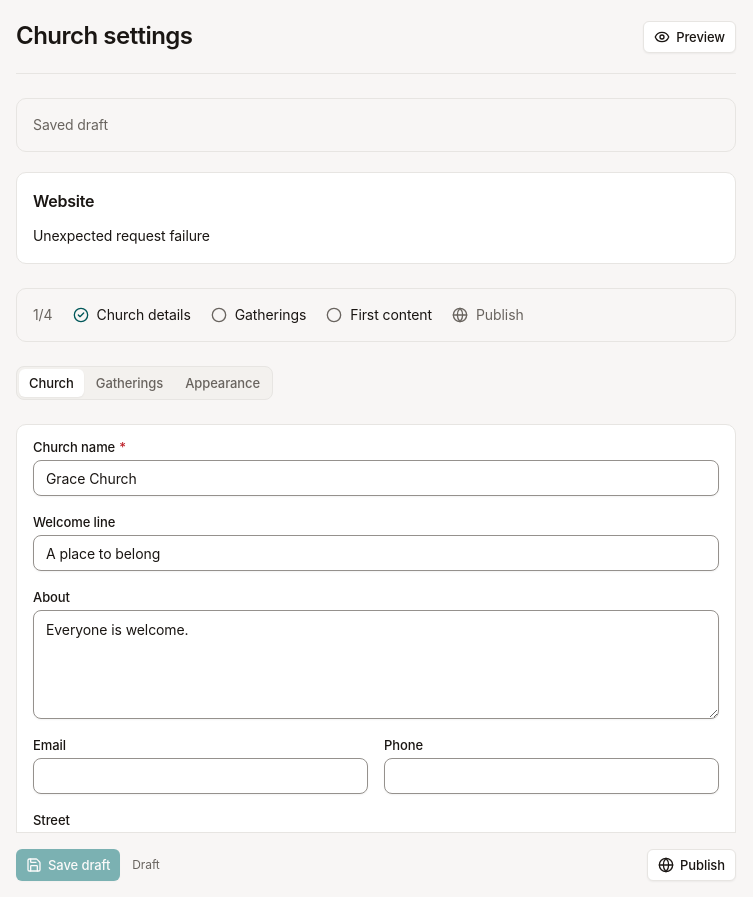
keeps unsaved edits separate from saved preview and publishes the saved version
The width and height of the screenshot is (753, 897).
Click the tab "Appearance" at (223, 383), box [175,369,270,397]
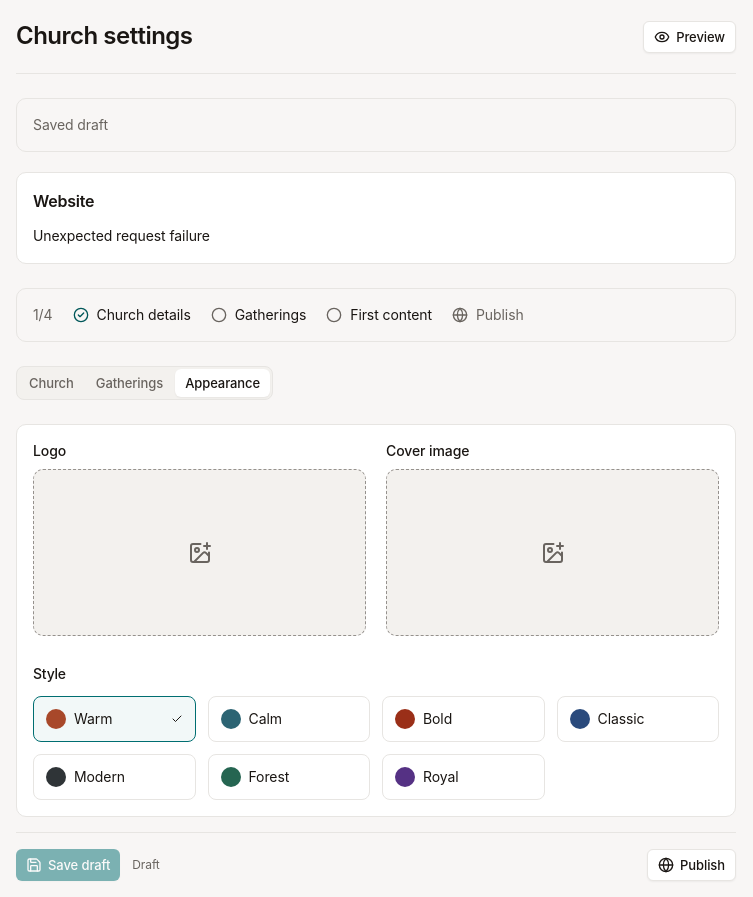
Expected: the button "calm" is shown
Click the button "calm" at (289, 719), box [208,696,370,742]
(page scrolled)
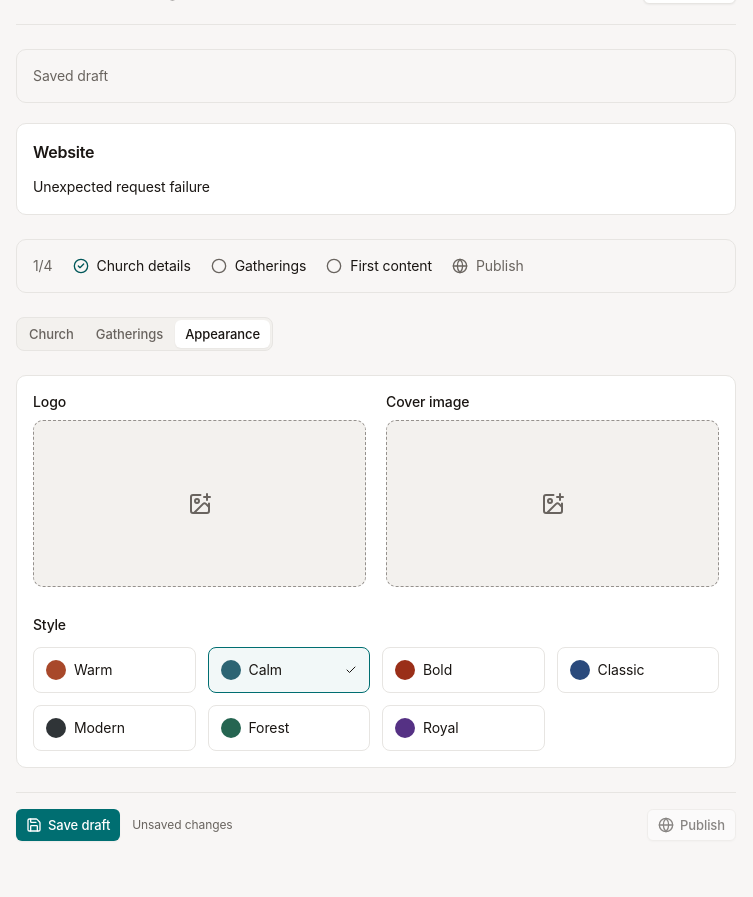
Expected: the button "Publish" is disabled, [647,809,736,841]
Submit the form, box [16,375,736,857]
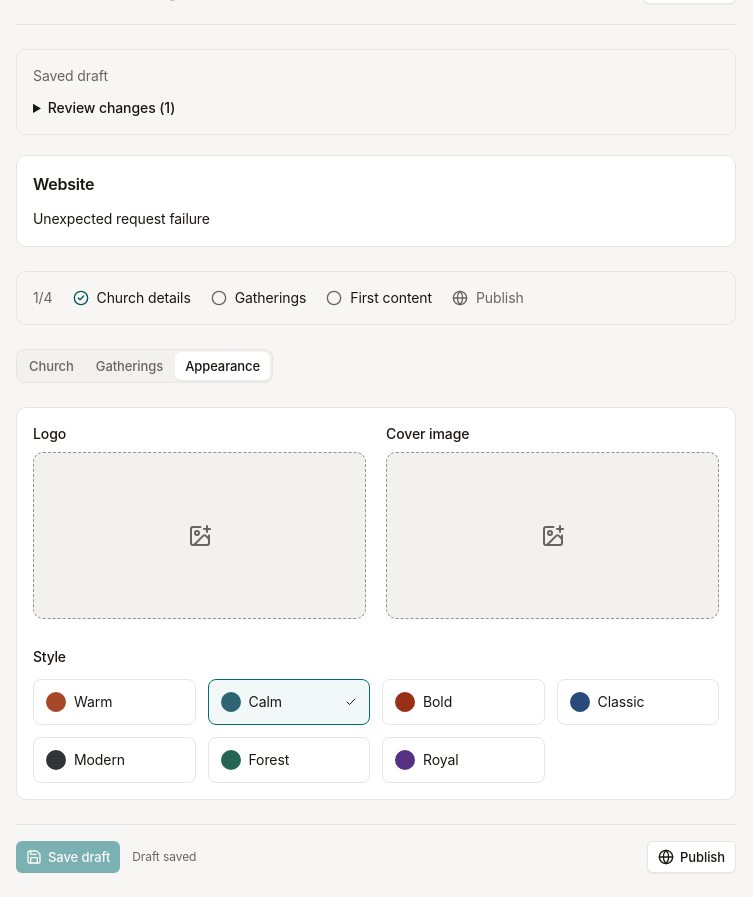
Expected: the message "Draft saved" is shown, [132,849,196,865]
Expected: the button "Publish" is enabled
Click the button "Publish" at (692, 857), box [647,841,736,873]
(page scrolled)
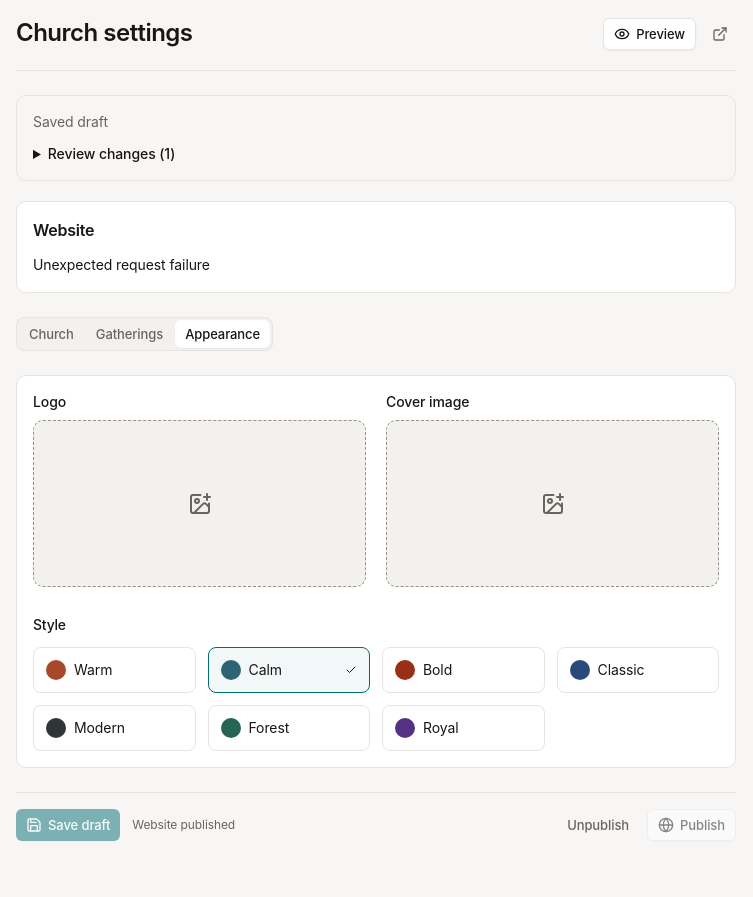
Expected: the message "Website published" is shown, [132,817,235,833]
